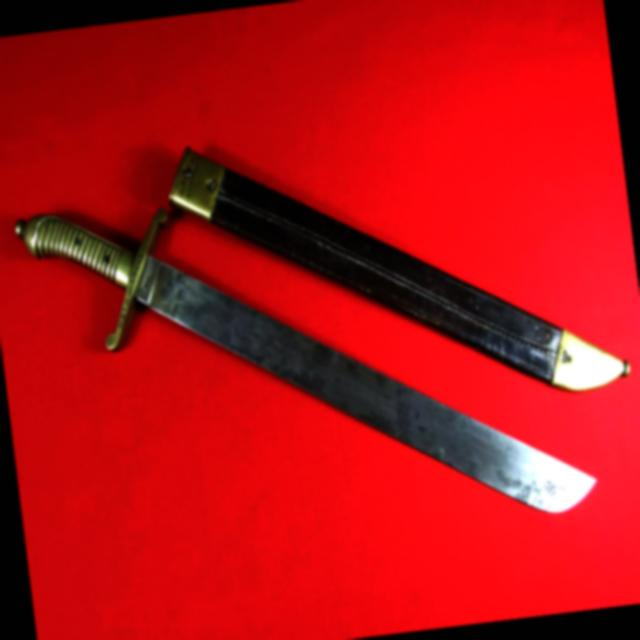short sword: (1, 81, 640, 587)
